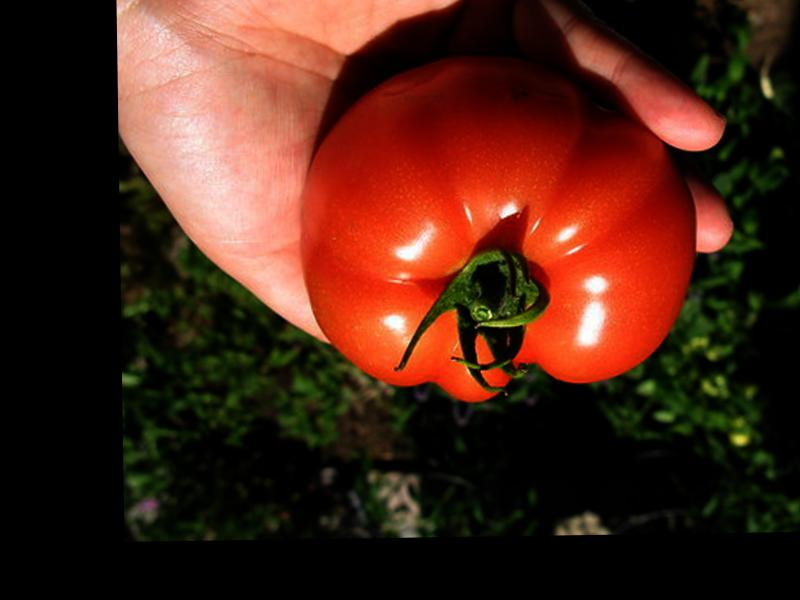Tomato: (301, 57, 698, 404)
